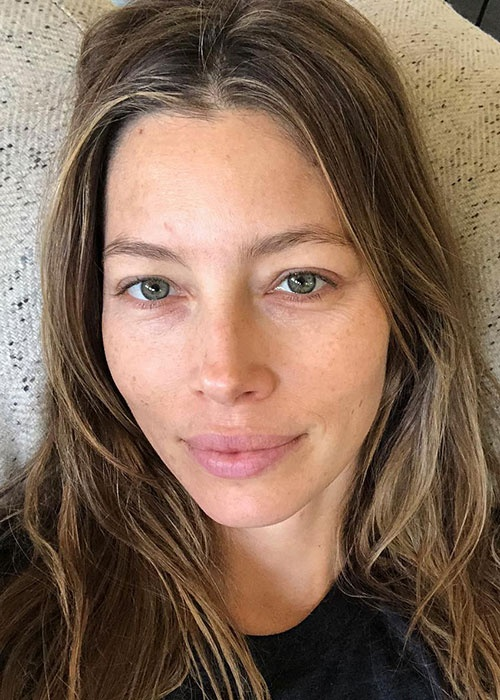face: (100, 111, 382, 531)
